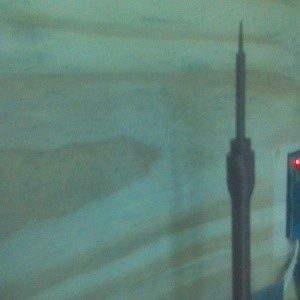solder: (225, 20, 256, 300)
